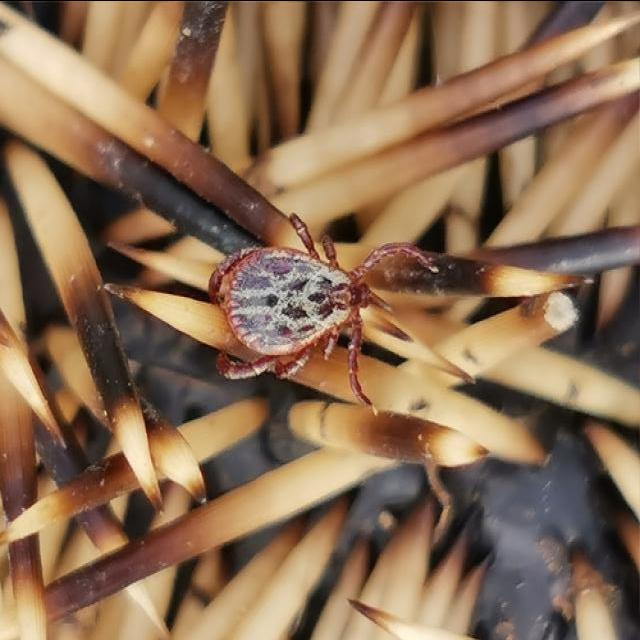Dermacentor Reticulatus-M: (208, 214, 431, 406)
